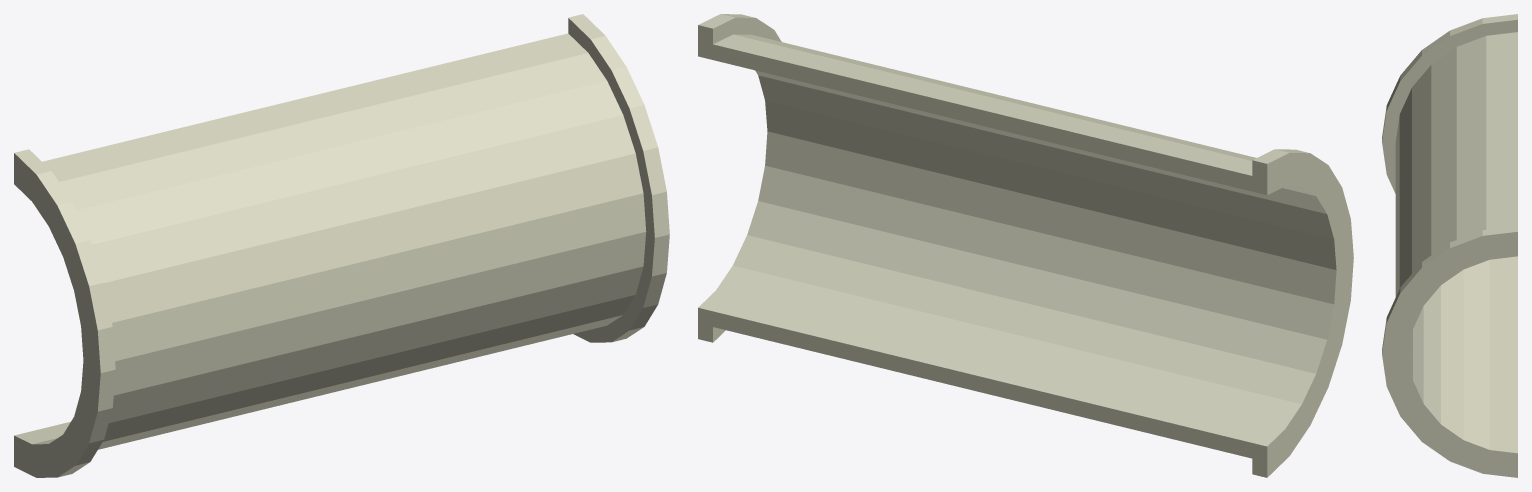
The model's file is section_191.obj.
3 renders of one model, left to right at view 1: azimuth 30°, elevation 25°; view 2: azimuth 150°, elevation 25°; view 3: azimuth 270°, elevation 25°, orthographic. The views are drawn at different scales.
Size of the model in its own units: 37.93 by 20 by 10.
